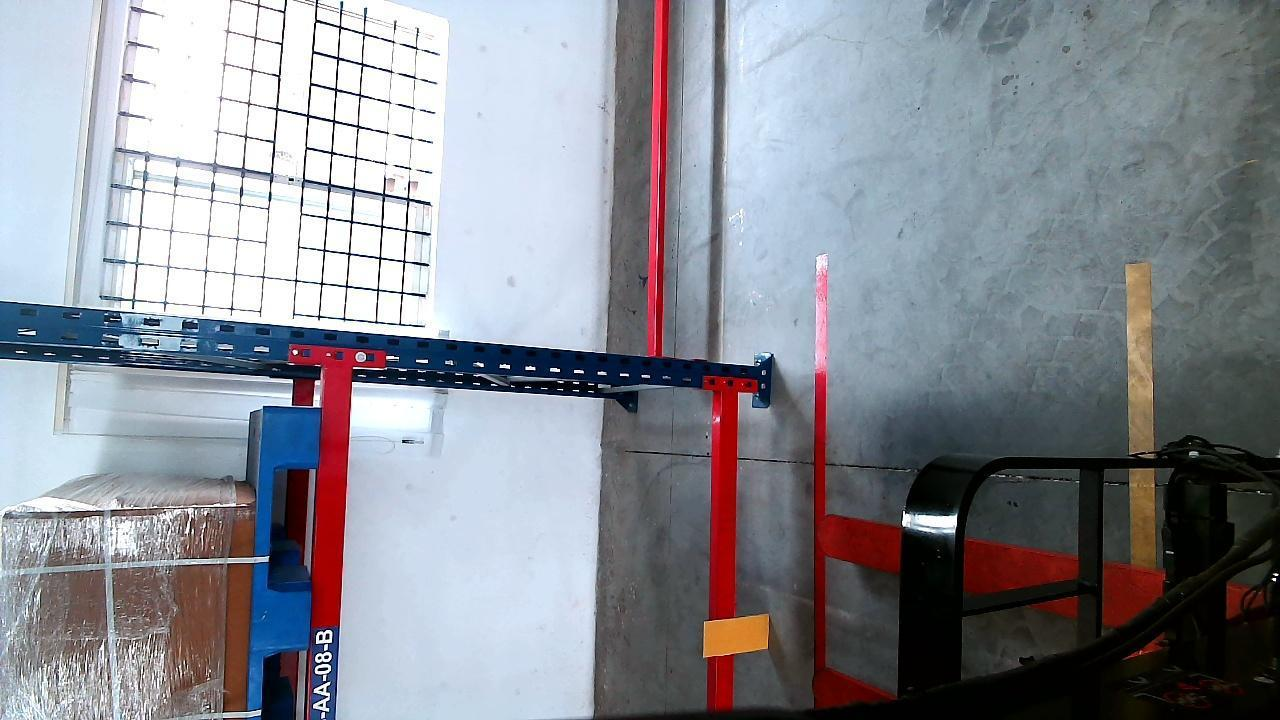h_rack: (309, 369, 355, 720), (710, 393, 741, 712)
orange_strip: (705, 614, 772, 656)
red_line: (810, 251, 831, 717)
small_pallet: (246, 404, 317, 720)
yellow_line: (1122, 253, 1155, 608)
